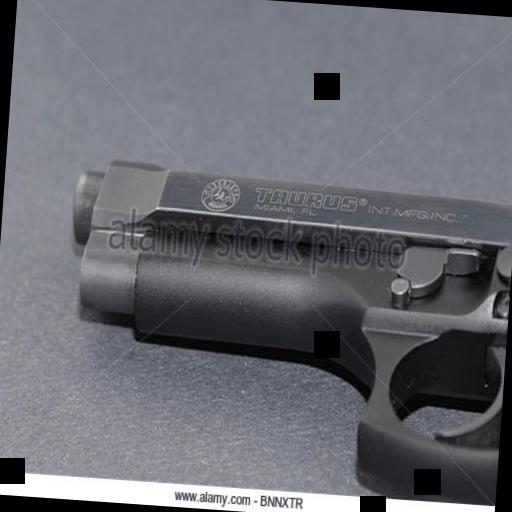Handgun: (51, 147, 512, 502)
